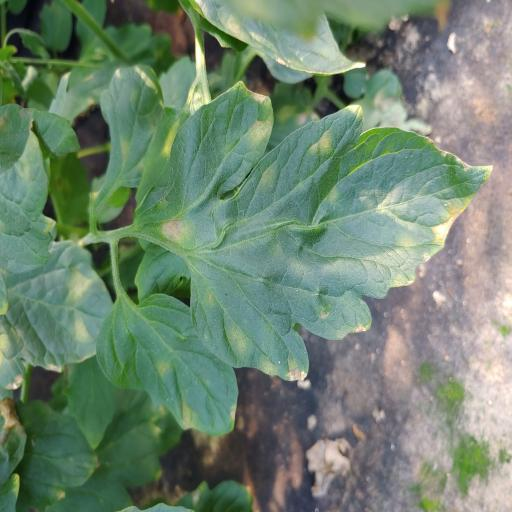Leaf Mold: (136, 78, 494, 382), (96, 292, 238, 438), (0, 241, 114, 390)
